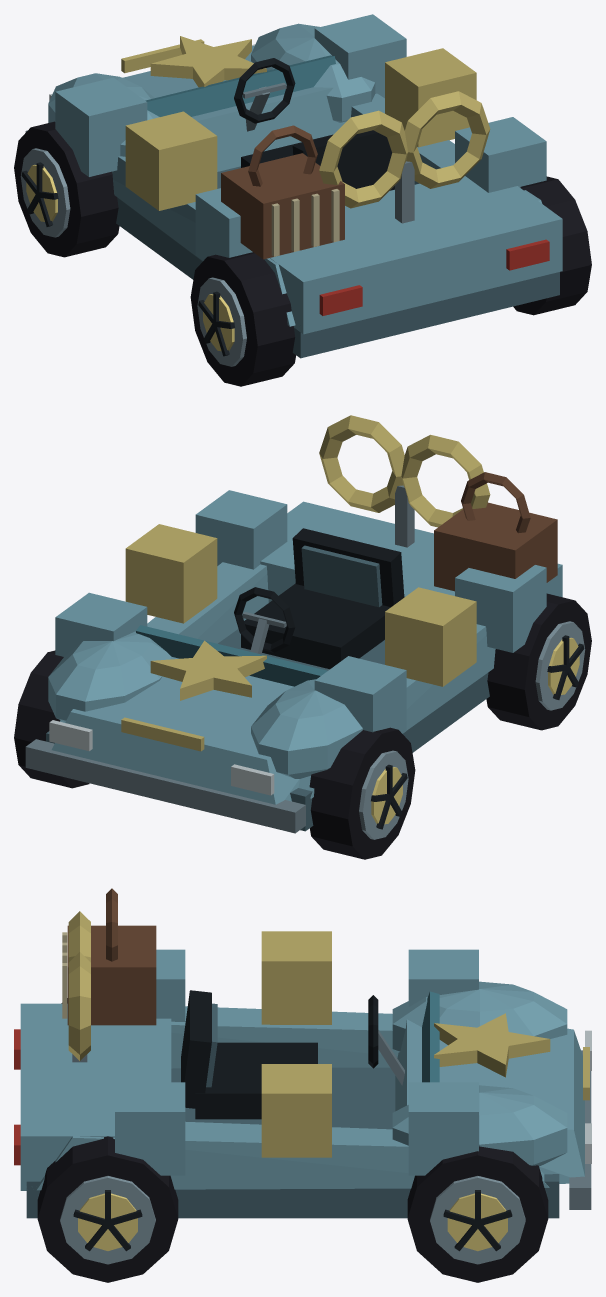
File: kart.glb
3 renders of one model, top to bottom at view 1: azimuth 30°, elevation 25°; view 2: azimuth 150°, elevation 25°; view 3: azimuth 270°, elevation 25°, orthographic. The views are drawn at different scales.
Visible parts, largest first — view 1: identity-toy-car-toy-rounded-body-and-wind-up-key, identity-toy-car-motif-blocks, wheel-rear-left, identity-toy-car-motif-basket, wheel-front-left, identity-toy-car-driver-cockpit, wheel-rear-right, identity-toy-car-motif-star; view 2: identity-toy-car-toy-rounded-body-and-wind-up-key, identity-toy-car-motif-blocks, identity-toy-car-driver-cockpit, wheel-front-left, wheel-rear-left, identity-toy-car-motif-basket, identity-toy-car-motif-star, wheel-front-right; view 3: identity-toy-car-toy-rounded-body-and-wind-up-key, identity-toy-car-motif-blocks, wheel-rear-right, wheel-front-right, identity-toy-car-driver-cockpit, identity-toy-car-motif-basket, identity-toy-car-motif-star.
Part boxes in pixels (<box>): identity-toy-car-toy-rounded-body-and-wind-up-key: <box>25,23,562,358</box>; identity-toy-car-motif-blocks: <box>55,14,546,260</box>; wheel-rear-left: <box>190,252,295,386</box>; identity-toy-car-motif-basket: <box>221,125,344,259</box>; wheel-front-left: <box>14,121,119,257</box>; identity-toy-car-driver-cockpit: <box>234,58,394,190</box>; wheel-rear-right: <box>513,176,591,315</box>; identity-toy-car-motif-star: <box>150,36,266,87</box>; identity-toy-car-toy-rounded-body-and-wind-up-key: <box>25,415,562,833</box>; identity-toy-car-motif-blocks: <box>55,490,546,733</box>; identity-toy-car-driver-cockpit: <box>234,528,404,669</box>; wheel-front-left: <box>309,727,415,859</box>; wheel-rear-left: <box>486,593,591,730</box>; identity-toy-car-motif-basket: <box>434,472,557,591</box>; identity-toy-car-motif-star: <box>150,640,266,700</box>; wheel-front-right: <box>14,650,89,788</box>; identity-toy-car-toy-rounded-body-and-wind-up-key: <box>14,911,591,1218</box>; identity-toy-car-motif-blocks: <box>115,931,478,1175</box>; wheel-rear-right: <box>37,1136,178,1282</box>; wheel-front-right: <box>407,1146,548,1282</box>; identity-toy-car-driver-cockpit: <box>181,990,404,1119</box>; identity-toy-car-motif-basket: <box>62,888,156,1025</box>; identity-toy-car-motif-star: <box>434,1013,550,1077</box>.
Size of the model in its own units: 2.13 by 1.42 by 2.88.
